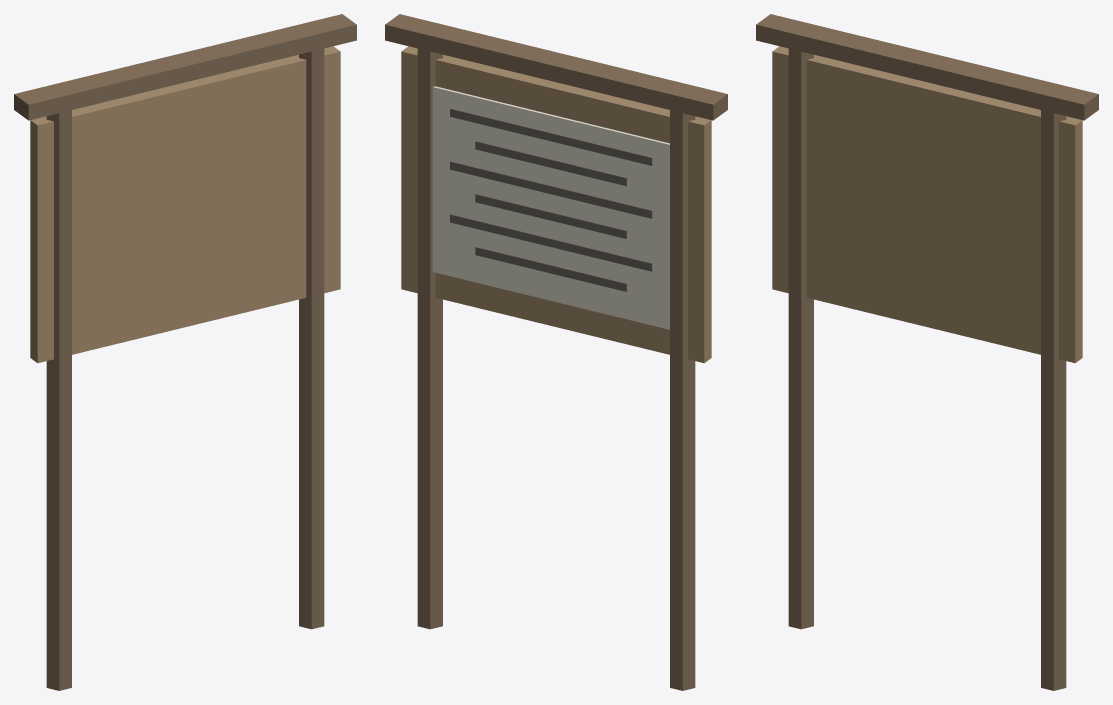
File: toll_charges_board.glb
3 renders of one model, left to right at view 1: azimuth 30°, elevation 25°; view 2: azimuth 150°, elevation 25°; view 3: azimuth 330°, elevation 25°, orthographic.
Visible parts, largest first — view 1: wood, wood_dk; view 2: poster, wood_dk, wood, ink; view 3: wood, wood_dk.
Boxes of the visible parts, left/top/right/bottom form: wood: left=30, top=46, right=340, bottom=363; wood_dk: left=14, top=14, right=356, bottom=690; poster: left=432, top=86, right=669, bottom=329; wood_dk: left=385, top=14, right=727, bottom=690; wood: left=401, top=46, right=711, bottom=363; ink: left=450, top=108, right=652, bottom=291; wood: left=772, top=46, right=1082, bottom=363; wood_dk: left=756, top=14, right=1098, bottom=690.
Bounding box in the file's own units: 1.3 × 2.25 × 0.1.
